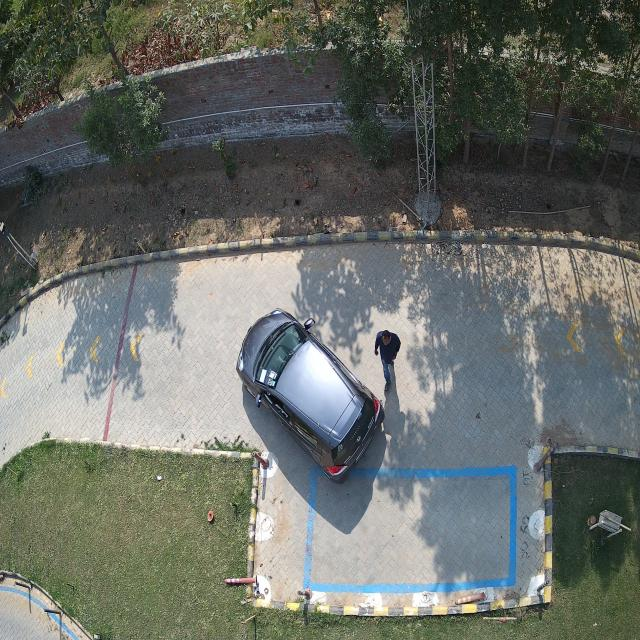car: (236, 308, 385, 483)
